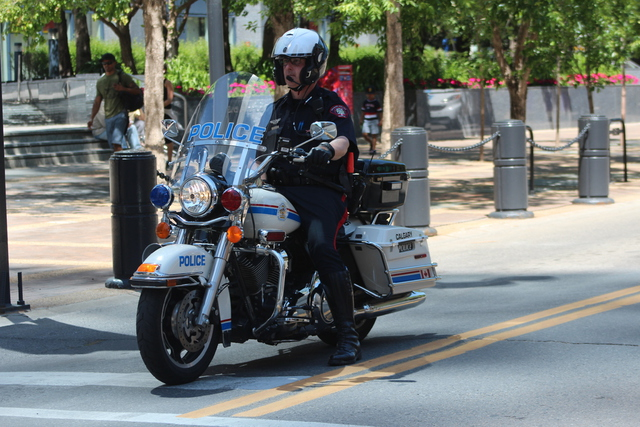helmet: (271, 31, 329, 81)
